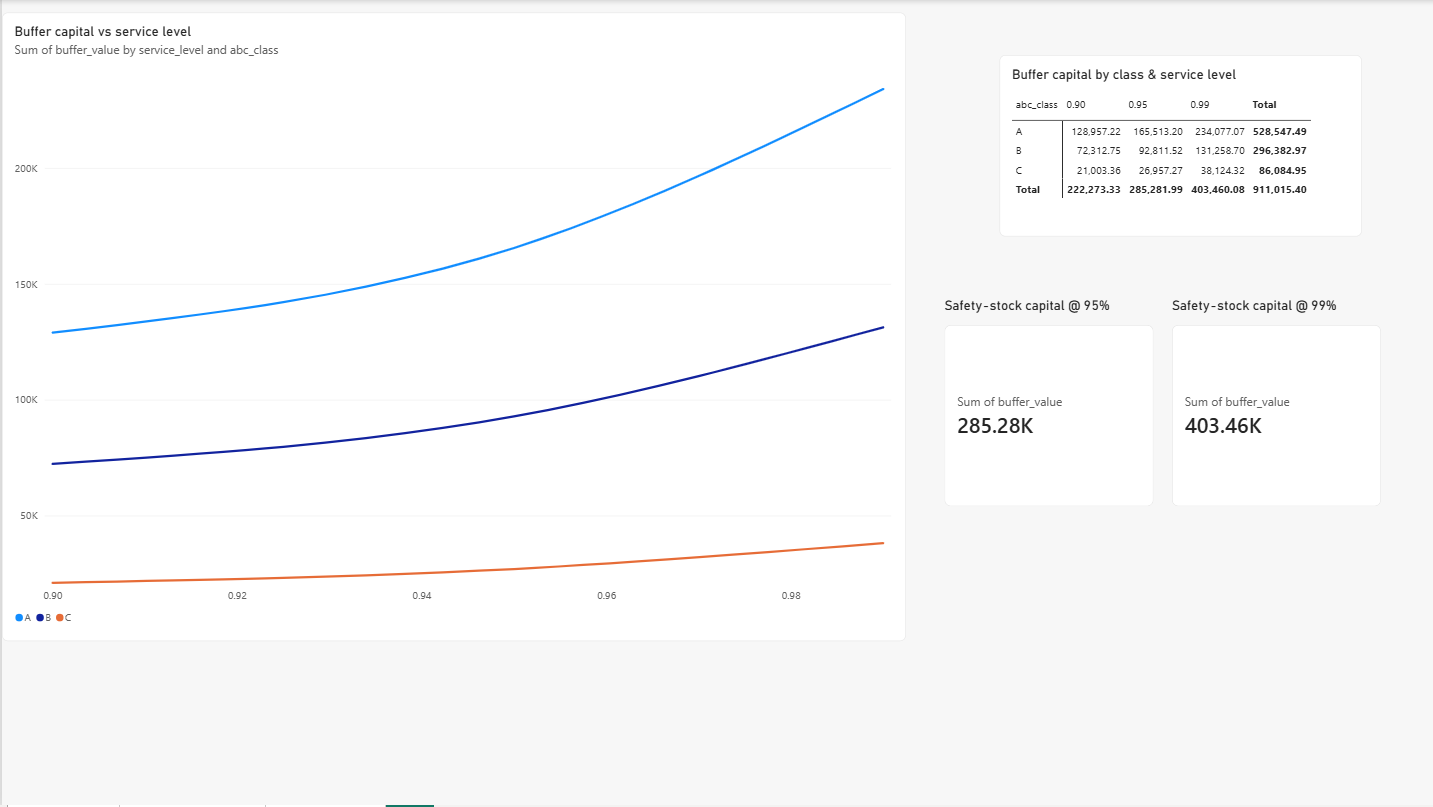

The dashboard page shown, as its layout file describes it:
{"tool":"powerbi","page":{"name":"Sensitivity","canvas":[1920,1080],"ordinal":2},"visuals":[{"type":"lineChart","title":"Buffer capital vs service level","fields":{"Category":["service_level_sensitivity.service_level"],"Series":["service_level_sensitivity.abc_class"],"Y":["Sum(service_level_sensitivity.buffer_value)"]},"box":[0,16.7,1211,842.5],"z":0},{"type":"pivotTable","title":"Buffer capital by class & service level","fields":{"Columns":["service_level_sensitivity.service_level"],"Rows":["service_level_sensitivity.abc_class"],"Values":["Sum(service_level_sensitivity.buffer_value)"]},"box":[1336.6,73.7,485.7,242.9],"z":1000},{"type":"cardVisual","title":"Safety-stock capital @ 95%","fields":{"Data":["Sum(service_level_sensitivity.buffer_value)"]},"box":[1262.9,398.6,280,280],"z":2000},{"type":"cardVisual","title":"Safety-stock capital @ 99%","fields":{"Data":["Sum(service_level_sensitivity.buffer_value)"]},"box":[1567.7,398.6,280,280],"z":2001}]}

Visuals, with their boxes in screenshot pixels (x1, y1, x2, y2), scaled from the page's 1920x1080 canvas onto the 1433x807 screenshot:
"Buffer capital vs service level" lineChart: Rect(0, 12, 904, 642)
"Buffer capital by class & service level" pivotTable: Rect(998, 55, 1360, 237)
"Safety-stock capital @ 95%" cardVisual: Rect(943, 298, 1152, 507)
"Safety-stock capital @ 99%" cardVisual: Rect(1170, 298, 1379, 507)
